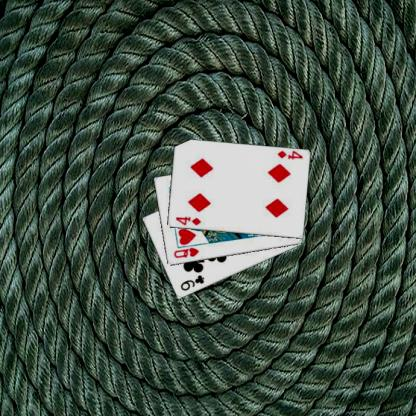4D: (274, 148, 304, 161), (173, 214, 202, 227)
9C: (178, 272, 205, 292)
QH: (171, 245, 200, 259)
